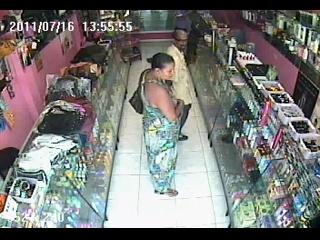Normal: (140, 53, 184, 198), (166, 29, 192, 141)
